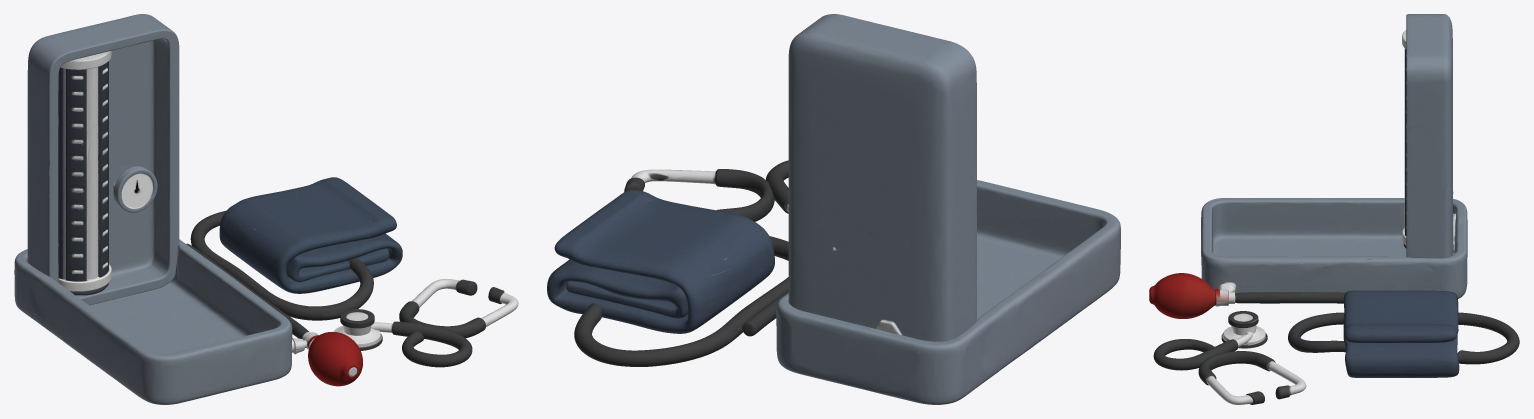
File: Meshy_AI_Vintage_Blood_Pressure_Kit_20261029_texture.fbx
The picture shows the model from 3 angles, left to right: view 1: azimuth 30°, elevation 25°; view 2: azimuth 150°, elevation 25°; view 3: azimuth 270°, elevation 25°; orthographic projection. The views are drawn at different scales.
Parts seen in each view (by area): view 1: Mesh_0; view 2: Mesh_0; view 3: Mesh_0.
Part boxes in pixels (x1,y1,x2,y2): Mesh_0: [14, 14, 518, 404]; Mesh_0: [547, 14, 1120, 404]; Mesh_0: [1149, 14, 1519, 404].
Size of the model in its own units: 190 by 129 by 180.
1 material, 1 textured.
